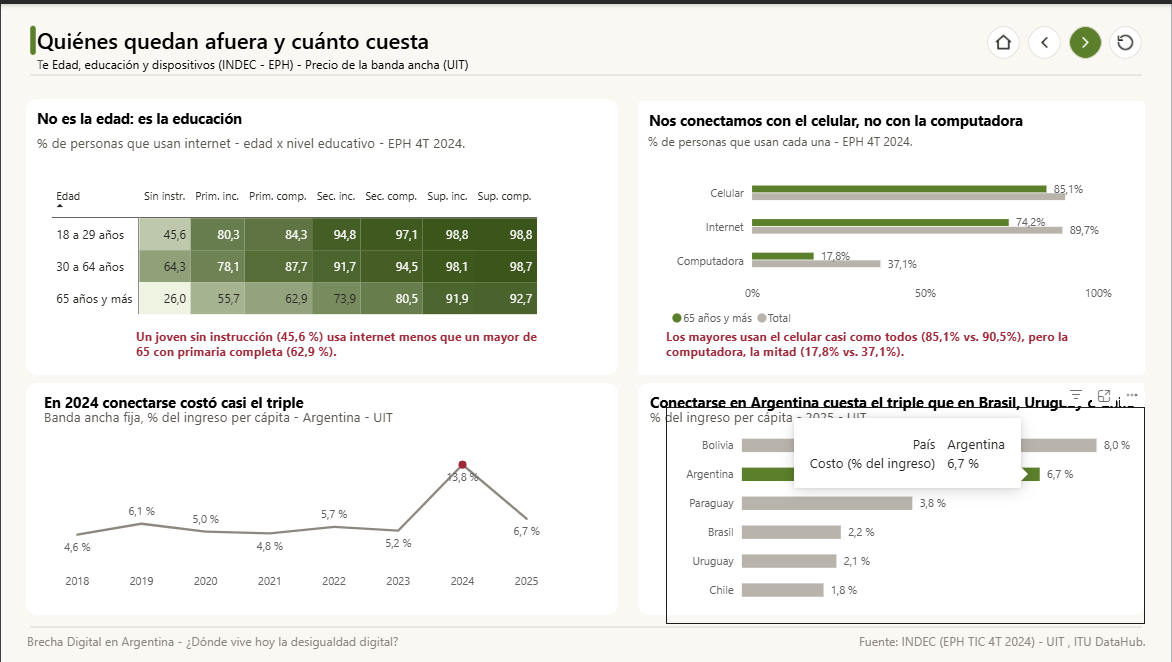

This screenshot's page, from the dashboard's own definition file:
{"tool":"powerbi","page":{"name":"5.Quiénes y costo","canvas":[1280,720],"ordinal":5},"visuals":[{"type":"textbox","box":[39.8,22.4,687.4,40.8],"z":0},{"type":"shape","box":[696.9,106.1,554.7,299.8],"z":0,"group":"g1"},{"type":"textbox","box":[39.8,57.1,562,25.5],"z":1000},{"type":"actionButton","box":[1079.1,24.5,36,36],"z":2000},{"type":"actionButton","box":[1124,24,36,36],"z":3000},{"type":"actionButton","box":[1168,24,36,36],"z":4000},{"type":"actionButton","box":[1212,24,36,36],"z":5000},{"type":"textbox","box":[28,687.8,421.2,28],"z":6000},{"type":"textbox","box":[652,688,600,28],"z":7000},{"type":"shape","box":[27.4,103.9,647.7,301.9],"z":8000},{"type":"group","id":"g1","title":"Grupo 1","box":[696.9,106.1,554.7,299.8],"z":9000},{"type":"textbox","box":[39.4,113.8,358.8,31.7],"z":10000},{"type":"textbox","box":[39.4,141.1,485.7,29.5],"z":11000},{"type":"textbox","box":[708.9,116,480.2,27.7],"z":12000},{"type":"textbox","box":[707.8,141.1,480.3,32.8],"z":13000},{"type":"pivotTable","fields":{"Columns":["fact_EphTicEdadEducacion.Nivel"],"Rows":["fact_EphTicEdadEducacion.GrupoEdad","fact_EphTicEdadEducacion.Bien"],"Values":["Sum(fact_EphTicEdadEducacion.Pct_Si)"]},"box":[39.4,178.3,600.6,211.1],"z":14000},{"type":"textbox","box":[147.7,354.5,441,43],"z":15000},{"type":"clusteredBarChart","fields":{"Category":["fact_EphTicEdadSexo.Bien"],"Series":["fact_EphTicEdadSexo.Categoria"],"Y":["Sum(fact_EphTicEdadSexo.Pct_Si)"]},"box":[717.7,161.9,517.5,211.1],"z":16000},{"type":"textbox","box":[727.5,354.5,484.6,70],"z":17000},{"type":"shape","box":[27.4,414.6,647.7,253.8],"z":18000},{"type":"shape","box":[696.9,414.6,554.7,253.8],"z":19000},{"type":"textbox","box":[47,424.5,358.8,31.7],"z":20000},{"type":"textbox","box":[47,440.9,485.7,29.5],"z":21000},{"type":"lineChart","fields":{"Category":["fact_PrecioMundo.Anio"],"Y":["Sum(fact_PrecioMundo.Precio_pct_ingreso)","Medidas.Punto costo 2024"]},"box":[39.4,470.4,579.8,190.4],"z":22000},{"type":"textbox","box":[710,424.5,538.3,31.7],"z":23000},{"type":"textbox","box":[710,440.9,485.7,29.5],"z":24000},{"type":"clusteredBarChart","fields":{"Category":["fact_PrecioMundo.PaisES"],"Y":["Sum(fact_PrecioMundo.Precio_pct_ingreso)"]},"box":[714.4,440.9,524,237.4],"z":25000}]}

Visuals, with their boxes on the page's 1280x720 design canvas (x1, y1, x2, y2). These are canvas units, not pixel positions in the 1172x662 screenshot, which may show the page scaled, cropped or inside an application window:
textbox: <bbox>40, 22, 727, 63</bbox>
shape: <bbox>697, 106, 1252, 406</bbox>
textbox: <bbox>40, 57, 602, 83</bbox>
actionButton: <bbox>1079, 24, 1115, 60</bbox>
actionButton: <bbox>1124, 24, 1160, 60</bbox>
actionButton: <bbox>1168, 24, 1204, 60</bbox>
actionButton: <bbox>1212, 24, 1248, 60</bbox>
textbox: <bbox>28, 688, 449, 716</bbox>
textbox: <bbox>652, 688, 1252, 716</bbox>
shape: <bbox>27, 104, 675, 406</bbox>
"Grupo 1" group: <bbox>697, 106, 1252, 406</bbox>
textbox: <bbox>39, 114, 398, 146</bbox>
textbox: <bbox>39, 141, 525, 171</bbox>
textbox: <bbox>709, 116, 1189, 144</bbox>
textbox: <bbox>708, 141, 1188, 174</bbox>
pivotTable - fact_EphTicEdadEducacion.Nivel x fact_EphTicEdadEducacion.GrupoEdad: <bbox>39, 178, 640, 389</bbox>
textbox: <bbox>148, 354, 589, 398</bbox>
clusteredBarChart - fact_EphTicEdadSexo.Bien x fact_EphTicEdadSexo.Categoria: <bbox>718, 162, 1235, 373</bbox>
textbox: <bbox>728, 354, 1212, 424</bbox>
shape: <bbox>27, 415, 675, 668</bbox>
shape: <bbox>697, 415, 1252, 668</bbox>
textbox: <bbox>47, 424, 406, 456</bbox>
textbox: <bbox>47, 441, 533, 470</bbox>
lineChart - fact_PrecioMundo.Anio x Sum(fact_PrecioMundo.Precio_pct_ingreso): <bbox>39, 470, 619, 661</bbox>
textbox: <bbox>710, 424, 1248, 456</bbox>
textbox: <bbox>710, 441, 1196, 470</bbox>
clusteredBarChart - fact_PrecioMundo.PaisES x Sum(fact_PrecioMundo.Precio_pct_ingreso): <bbox>714, 441, 1238, 678</bbox>
